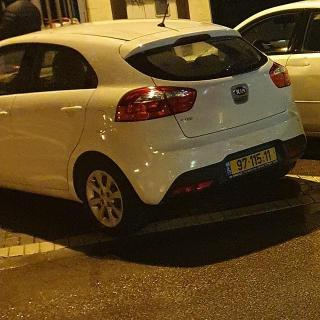LicensePlate: (228, 147, 278, 174)
